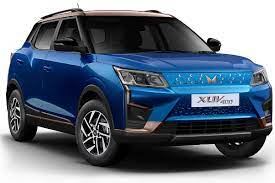XUV 400: (6, 6, 273, 168)
